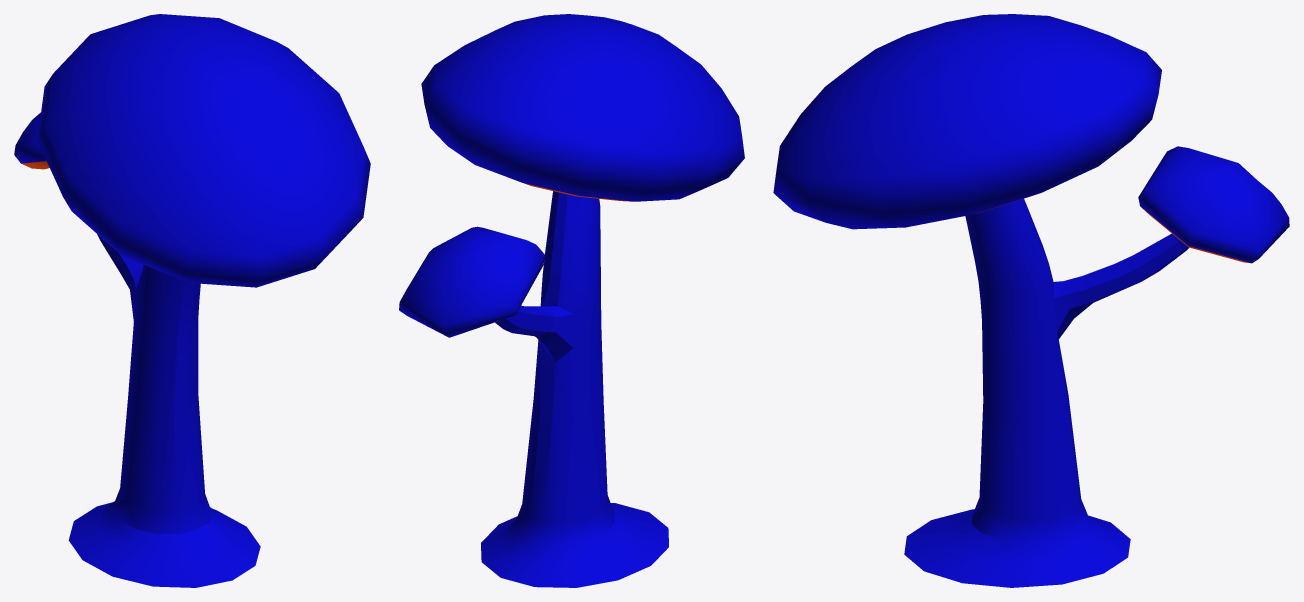
The model's file is Fungus YH235.fbx.
The picture shows the model from 3 angles, left to right: view 1: azimuth 30°, elevation 25°; view 2: azimuth 150°, elevation 25°; view 3: azimuth 270°, elevation 25°; orthographic projection. The views are drawn at different scales.
Parts seen in each view (by area): view 1: Fungus_YH235; view 2: Fungus_YH235; view 3: Fungus_YH235.
Boxes of the visible parts, x1,y1,x2,y2 form: Fungus_YH235: (14,14,370,587); Fungus_YH235: (399,14,744,587); Fungus_YH235: (773,14,1289,587).
Size of the model in its own units: 4.92 by 8.65 by 7.66.
